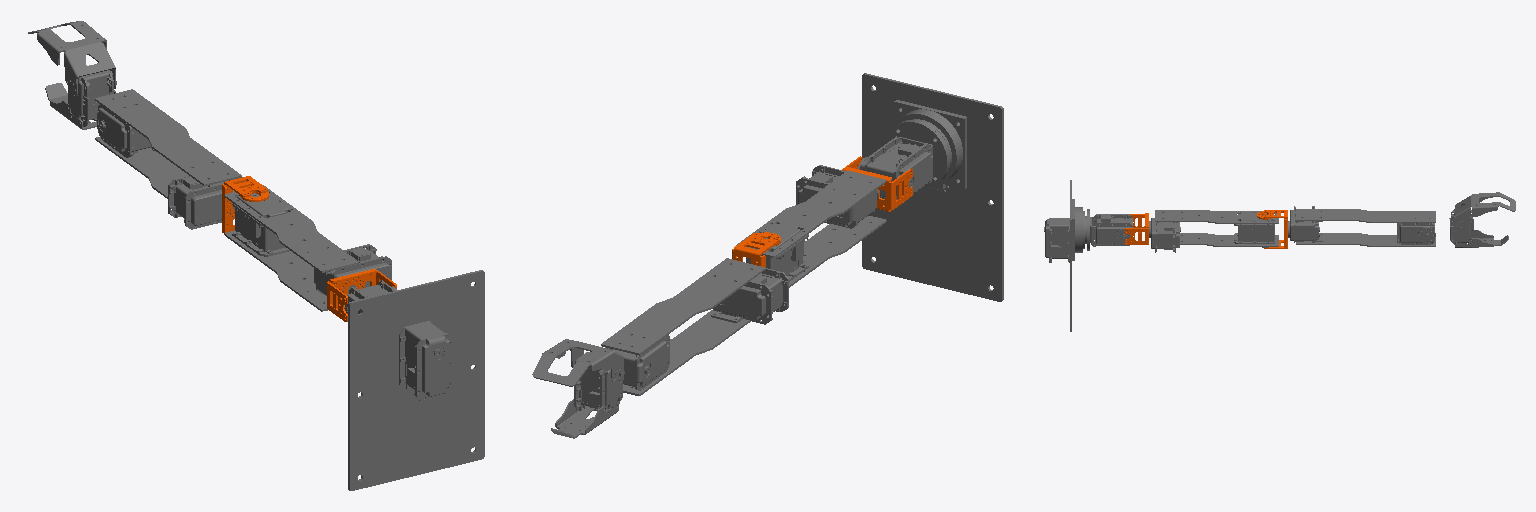
URDF robot description (open_manipulator_chain):
<?xml version="1.0" ?>
<!-- =================================================================================== -->
<!-- |    This document was autogenerated by xacro from open_manipulator_chain.xacro   | -->
<!-- |    EDITING THIS FILE BY HAND IS NOT RECOMMENDED                                 | -->
<!-- =================================================================================== -->
<!-- ROMO_Manipulator Chain -->
<robot name="open_manipulator_chain" xmlns:xacro="http://www.ros.org/wiki/xacro">
  <material name="black">
    <color rgba="0.0 0.0 0.0 1.0"/>
  </material>
  <material name="white">
    <color rgba="1.0 1.0 1.0 1.0"/>
  </material>
  <material name="red">
    <color rgba="0.8 0.0 0.0 1.0"/>
  </material>
  <material name="blue">
    <color rgba="0.0 0.0 0.8 1.0"/>
  </material>
  <material name="green">
    <color rgba="0.0 0.8 0.0 1.0"/>
  </material>
  <material name="grey">
    <color rgba="0.5 0.5 0.5 1.0"/>
  </material>
  <material name="orange">
    <color rgba="1.0 0.423529411765 0.0392156862745 1.0"/>
  </material>
  <material name="brown">
    <color rgba="0.870588235294 0.811764705882 0.764705882353 1.0"/>
  </material>
  <!-- World -->
  <link name="left_base">
  </link>
  <!-- World fixed joint-->
  <joint name="left_fixed" type="fixed">
    <origin rpy="1.570796327 0 0" xyz="0 0 0.8"/>
    <parent link="left_base"/>
    <child link="link1"/>
  </joint>
  <!-- Link 1 -->
  <link name="link1">
    <collision>
      <origin rpy="0 0 0" xyz="0.0 0.0 0.0"/>
      <geometry>
        <mesh filename="package://romo_ros/meshes/left_chain_link1.stl"/>
      </geometry>
    </collision>
    <visual>
      <origin rpy="0 0 0" xyz="0.0 0.0 0.0"/>
      <geometry>
        <mesh filename="package://romo_ros/meshes/left_chain_link1.stl"/>
      </geometry>
      <material name="grey"/>
    </visual>
    <inertial>
      <origin xyz="0 0 0.0"/>
      <mass value="1"/>
      <inertia ixx="0.001" ixy="0.0" ixz="0.0" iyy="0.001" iyz="0.0" izz="0.001"/>
    </inertial>
  </link>
  <!-- Joint 1 -->
  <joint name="joint1" type="revolute">
    <parent link="link1"/>
    <child link="link2"/>
    <origin rpy="0 0 0" xyz="0.0 0.048 -0.026"/>
    <axis xyz="0 0 1"/>
    <limit effort="30" lower="-3.11017672746" upper="3.11017672746" velocity="1.570796327"/>
  </joint>
  <!-- Transmission 1 -->
  <transmission name="tran1">
    <type>transmission_interface/SimpleTransmission</type>
    <joint name="joint1">
      <hardwareInterface>PositionJointInterface</hardwareInterface>
    </joint>
    <actuator name="motor1">
      <hardwareInterface>PositionJointInterface</hardwareInterface>
      <mechanicalReduction>1</mechanicalReduction>
    </actuator>
  </transmission>
  <!--  Link 2 -->
  <link name="link2">
    <collision>
      <origin rpy="0 0 0" xyz="0.0 -0.048 0.026"/>
      <geometry>
        <mesh filename="package://romo_ros/meshes/left_chain_link2.stl"/>
      </geometry>
    </collision>
    <visual>
      <origin rpy="0 0 0" xyz="0.0 -0.048 0.026"/>
      <geometry>
        <mesh filename="package://romo_ros/meshes/left_chain_link2.stl"/>
      </geometry>
      <material name="grey"/>
    </visual>
    <inertial>
      <origin xyz="0 -0.048 0.026"/>
      <mass value="0.5"/>
      <inertia ixx="0.001" ixy="0.0" ixz="0.0" iyy="0.001" iyz="0.0" izz="0.001"/>
    </inertial>
  </link>
  <!--  Joint 2 -->
  <joint name="joint2" type="revolute">
    <parent link="link2"/>
    <child link="link3"/>
    <origin rpy="1.570796327 0 0" xyz="0.0 0.0 -0.058"/>
    <axis xyz="-1 0 0"/>
    <limit effort="30" lower="-1.570796327" upper="1.570796327" velocity="1.570796327"/>
  </joint>
  <!-- Transmission 2 -->
  <transmission name="tran2">
    <type>transmission_interface/SimpleTransmission</type>
    <joint name="joint2">
      <hardwareInterface>PositionJointInterface</hardwareInterface>
    </joint>
    <actuator name="motor2">
      <hardwareInterface>PositionJointInterface</hardwareInterface>
      <mechanicalReduction>1</mechanicalReduction>
    </actuator>
  </transmission>
  <!--  Link 3 -->
  <link name="link3">
    <collision>
      <origin rpy="0 0 0" xyz="0.0 -0.048 0.084"/>
      <geometry>
        <mesh filename="package://romo_ros/meshes/left_chain_link3.stl"/>
      </geometry>
    </collision>
    <visual>
      <origin rpy="0 0 0" xyz="0.0 -0.048 0.084"/>
      <geometry>
        <mesh filename="package://romo_ros/meshes/left_chain_link3.stl"/>
      </geometry>
      <material name="orange"/>
    </visual>
    <inertial>
      <origin xyz="0.0 -0.048 0.084"/>
      <mass value="0.5"/>
      <inertia ixx="0.001" ixy="0.0" ixz="0.0" iyy="0.001" iyz="0.0" izz="0.001"/>
    </inertial>
  </link>
  <!--  Joint 3 -->
  <joint name="joint3" type="revolute">
    <parent link="link3"/>
    <child link="link4"/>
    <origin rpy="0 0 0" xyz="0.0 -0.036 0.0"/>
    <axis xyz="0 -1 0"/>
    <limit effort="30" lower="-2.1991148578" upper="2.1991148578" velocity="1.570796327"/>
  </joint>
  <!-- Transmission 3 -->
  <transmission name="tran3">
    <type>transmission_interface/SimpleTransmission</type>
    <joint name="joint3">
      <hardwareInterface>PositionJointInterface</hardwareInterface>
    </joint>
    <actuator name="motor3">
      <hardwareInterface>PositionJointInterface</hardwareInterface>
      <mechanicalReduction>1</mechanicalReduction>
    </actuator>
  </transmission>
  <!--  Link 4 -->
  <link name="link4">
    <collision>
      <origin rpy="0 0 0" xyz="0.0 -0.012 0.084"/>
      <geometry>
        <mesh filename="package://romo_ros/meshes/left_chain_link4.stl"/>
      </geometry>
    </collision>
    <visual>
      <origin rpy="0 0 0" xyz="0.0 -0.012 0.084"/>
      <geometry>
        <mesh filename="package://romo_ros/meshes/left_chain_link4.stl"/>
      </geometry>
      <material name="grey"/>
    </visual>
    <inertial>
      <origin xyz="0.0 -0.012 0.084"/>
      <mass value="0.5"/>
      <inertia ixx="0.001" ixy="0.0" ixz="0.0" iyy="0.001" iyz="0.0" izz="0.001"/>
    </inertial>
  </link>
  <!--  Joint 4 -->
  <joint name="joint4" type="revolute">
    <parent link="link4"/>
    <child link="link5"/>
    <origin rpy="0 0 0" xyz="0.0 -0.187 0.0"/>
    <axis xyz="0 0 1"/>
    <limit effort="30" lower="-1.8849555924" upper="1.8849555924" velocity="1.570796327"/>
  </joint>
  <!-- Transmission 4 -->
  <transmission name="tran4">
    <type>transmission_interface/SimpleTransmission</type>
    <joint name="joint4">
      <hardwareInterface>PositionJointInterface</hardwareInterface>
    </joint>
    <actuator name="motor4">
      <hardwareInterface>PositionJointInterface</hardwareInterface>
      <mechanicalReduction>1</mechanicalReduction>
    </actuator>
  </transmission>
  <!--  Link 5 -->
  <link name="link5">
    <collision>
      <origin rpy="0 0 0" xyz="0.0 0.175 0.084"/>
      <geometry>
        <mesh filename="package://romo_ros/meshes/left_chain_link5.stl"/>
      </geometry>
    </collision>
    <visual>
      <origin rpy="0 0 0" xyz="0.0 0.175 0.084"/>
      <geometry>
        <mesh filename="package://romo_ros/meshes/left_chain_link5.stl"/>
      </geometry>
      <material name="orange"/>
    </visual>
    <inertial>
      <origin xyz="0 0.175 0.084"/>
      <mass value="0.4"/>
      <inertia ixx="0.001" ixy="0.0" ixz="0.0" iyy="0.001" iyz="0.0" izz="0.001"/>
    </inertial>
  </link>
  <!--  Joint 5 -->
  <joint name="joint5" type="revolute">
    <parent link="link5"/>
    <child link="link6"/>
    <origin rpy="0 0 0" xyz="0.0 -0.03 0.0"/>
    <axis xyz="0 -1 0"/>
    <limit effort="30" lower="-1.570796327" upper="2.1991148578" velocity="1.570796327"/>
  </joint>
  <!-- Transmission 5 -->
  <transmission name="tran5">
    <type>transmission_interface/SimpleTransmission</type>
    <joint name="joint5">
      <hardwareInterface>PositionJointInterface</hardwareInterface>
    </joint>
    <actuator name="motor5">
      <hardwareInterface>PositionJointInterface</hardwareInterface>
      <mechanicalReduction>1</mechanicalReduction>
    </actuator>
  </transmission>
  <!--  Link 6 -->
  <link name="link6">
    <collision>
      <origin rpy="0 0 0" xyz="0.0 0.205 0.084"/>
      <geometry>
        <mesh filename="package://romo_ros/meshes/left_chain_link6.stl"/>
      </geometry>
    </collision>
    <visual>
      <origin rpy="0 0 0" xyz="0.0 0.205 0.084"/>
      <geometry>
        <mesh filename="package://romo_ros/meshes/left_chain_link6.stl"/>
      </geometry>
      <material name="grey"/>
    </visual>
    <inertial>
      <origin xyz="0.0 0.205 0.084"/>
      <mass value="0.4"/>
      <inertia ixx="0.001" ixy="0.0" ixz="0.0" iyy="0.001" iyz="0.0" izz="0.001"/>
    </inertial>
  </link>
  <!--  Joint 6 -->
  <joint name="joint6" type="revolute">
    <parent link="link6"/>
    <child link="link7"/>
    <origin rpy="0 0 0" xyz="0.0 -0.228 0.0"/>
    <axis xyz="-1 0 0"/>
    <limit effort="30" lower="-1.570796327" upper="1.570796327" velocity="1.570796327"/>
  </joint>
  <!-- Transmission 6 -->
  <transmission name="tran6">
    <type>transmission_interface/SimpleTransmission</type>
    <joint name="joint6">
      <hardwareInterface>PositionJointInterface</hardwareInterface>
    </joint>
    <actuator name="motor6">
      <hardwareInterface>PositionJointInterface</hardwareInterface>
      <mechanicalReduction>1</mechanicalReduction>
    </actuator>
  </transmission>
  <!--  Link 7 -->
  <link name="link7">
    <collision>
      <origin rpy="0 0 0" xyz="0.0 0.433 0.084"/>
      <geometry>
        <mesh filename="package://romo_ros/meshes/left_chain_gripper_fix.stl"/>
      </geometry>
    </collision>
    <visual>
      <origin rpy="0 0 0" xyz="0.0 0.433 0.084"/>
      <geometry>
        <mesh filename="package://romo_ros/meshes/left_chain_gripper_fix.stl"/>
      </geometry>
      <material name="grey"/>
    </visual>
    <inertial>
      <origin xyz="0.0 0.433 0.084"/>
      <mass value="0.4"/>
      <inertia ixx="0.001" ixy="0.0" ixz="0.0" iyy="0.001" iyz="0.0" izz="0.001"/>
    </inertial>
  </link>
  <!--  grip_joint -->
  <joint name="grip_joint" type="revolute">
    <parent link="link7"/>
    <child link="grip_link"/>
    <origin rpy="0.6283185308 0 0" xyz="0.0 -0.06 -0.015"/>
    <axis xyz="-1 0 0"/>
    <limit effort="30" lower="-0.6283185308" upper="0.6283185308" velocity="1.570796327"/>
  </joint>
  <!--  Grip link -->
  <link name="grip_link">
    <collision>
      <origin rpy="0 0 0" xyz="0.0 0.493 0.099"/>
      <geometry>
        <mesh filename="package://romo_ros/meshes/left_chain_gripper_move.stl"/>
      </geometry>
    </collision>
    <visual>
      <origin rpy="0 0 0" xyz="0.0 0.493 0.099"/>
      <geometry>
        <mesh filename="package://romo_ros/meshes/left_chain_gripper_move.stl"/>
      </geometry>
      <material name="grey"/>
    </visual>
    <inertial>
      <origin xyz="0.0 0.493 0.099"/>
      <mass value="0.2"/>
      <inertia ixx="0.001" ixy="0.0" ixz="0.0" iyy="0.001" iyz="0.0" izz="0.001"/>
    </inertial>
  </link>
  <!--  Grip joint -->
  <!--<joint name="grip_joint" type="revolute">
    <parent link="link7"/>
    <child link="grip_link"/>
    <origin xyz="0.0 0.0 0.0" rpy="0 0 0"/>
    <axis xyz="1 0 0"/>
    <limit velocity="6.5" effort="1000" lower="${-pi*0.9}" upper="${pi*0.9}" />
  </joint>-->
  <!-- Transmission 5 -->
  <!--<transmission name="tran5">
    <type>transmission_interface/SimpleTransmission</type>
    <joint name="grip_joint">
      <hardwareInterface>PositionJointInterface</hardwareInterface>
    </joint>
    <actuator name="motor7">
      <hardwareInterface>PositionJointInterface</hardwareInterface>
      <mechanicalReduction>1</mechanicalReduction>
    </actuator>
  </transmission>-->
  <!--  Grip link sub -->
  <!--<link name="grip_link_sub">
    <collision>
      <origin xyz="0 -0.047 0" rpy="0 0 0"/>
      <geometry>
        <mesh filename="package://romo_ros/meshes/left_chain_link_grip_r.stl" scale="0.001 0.001 0.001"/>
      </geometry>
    </collision>

    <visual>
      <origin xyz="0 -0.047 0" rpy="0 0 0"/>
      <geometry>
        <mesh filename="package://romo_ros/meshes/left_chain_link_grip_r.stl" scale="0.001 0.001 0.001"/>
      </geometry>
      <material name="grey"/>
    </visual>

    <inertial>
      <origin xyz="0 0 0" />
      <mass value="0.01" />
      <inertia ixx="0.001" ixy="0.0" ixz="0.0"
               iyy="0.001" iyz="0.0"
               izz="0.001" />
    </inertial>
  </link>
  -->
  <!--  Grip joint sub -->
  <!--<joint name="grip_joint_sub" type="prismatic">
    <parent link="link5"/>
    <child link="grip_link_sub"/>
    <origin xyz="0.071 0.0 0" rpy="0 0 0"/>
    <axis xyz="0 1 0"/>
    <limit velocity="6.5" effort="1000" lower="-0.01" upper="0.035" />
  </joint>
  -->
  <!-- Transmission 6 -->
  <!--<transmission name="tran6">
    <type>transmission_interface/SimpleTransmission</type>
    <joint name="grip_joint_sub">
      <hardwareInterface>PositionJointInterface</hardwareInterface>
    </joint>
    <actuator name="motor8">
      <hardwareInterface>PositionJointInterface</hardwareInterface>
      <mechanicalReduction>1</mechanicalReduction>
    </actuator>
  </transmission>
  -->
</robot>

--- Render facts (derived) ---
3 views of the same robot in one strip: view 1: azimuth 30°, elevation 25°; view 2: azimuth 150°, elevation 25°; view 3: azimuth 270°, elevation 25° (orthographic).
Robot: open_manipulator_chain — 9 links, 8 joints (7 revolute, 1 fixed); root link left_base; default pose: all joints at 0.
Visible links, largest first — view 1: link1, link6, link4, grip_link, link7, link3, link5, link2; view 2: link1, link6, link4, link7, link2, grip_link, link3, link5; view 3: link6, link4, link1, link2, grip_link, link7.
Boxes of the visible links, x1,y1,x2,y2 form: link1: (348, 270, 484, 490); link6: (95, 89, 241, 229); link4: (225, 185, 391, 311); grip_link: (28, 21, 116, 98); link7: (45, 63, 115, 129); link3: (327, 269, 396, 321); link5: (222, 176, 268, 234); link2: (345, 280, 396, 313); link1: (862, 73, 1003, 301); link6: (601, 258, 788, 395); link4: (736, 165, 886, 287); link7: (551, 352, 622, 438); link2: (858, 136, 932, 199); grip_link: (532, 339, 624, 386); link3: (842, 156, 912, 211); link5: (732, 232, 780, 267); link6: (1288, 206, 1435, 246); link4: (1149, 210, 1278, 252); link1: (1044, 180, 1089, 331); link2: (1090, 214, 1132, 246); grip_link: (1455, 192, 1515, 229); link7: (1449, 209, 1508, 247).
Size in the robot's own frame: 0.15 by 0.753 by 0.2002 metres.
8 mesh visuals loaded from 8 distinct referenced files (8 binary STL).
